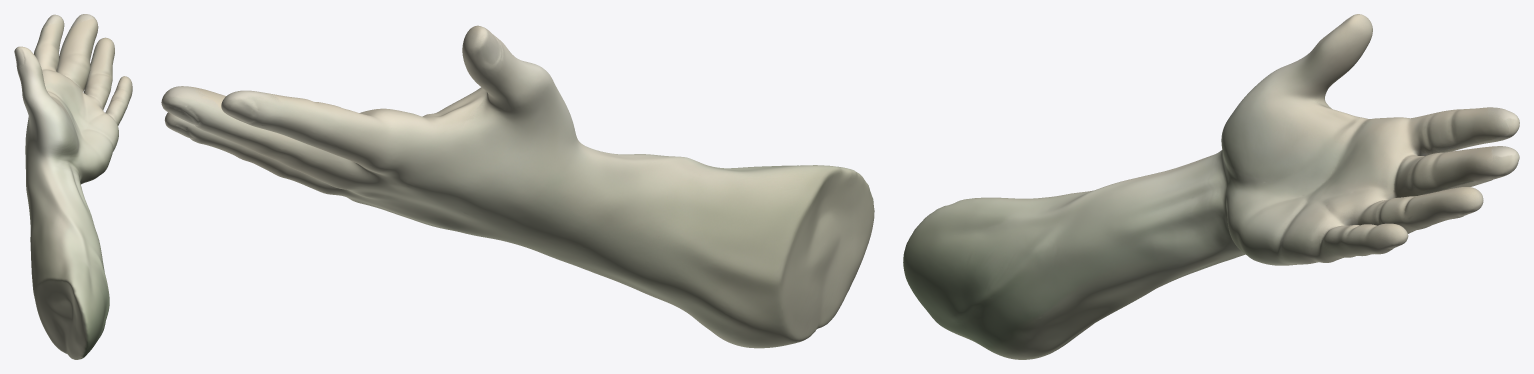
Rendered from hand_magic.glb.
3 views of the same model, side by side, from view 1: azimuth 30°, elevation 25°; view 2: azimuth 150°, elevation 25°; view 3: azimuth 270°, elevation 25° (orthographic). The views are drawn at different scales.
Bounding box in the file's own units: 1.19 × 1.28 × 1.9.
1 material, 1 textured.
